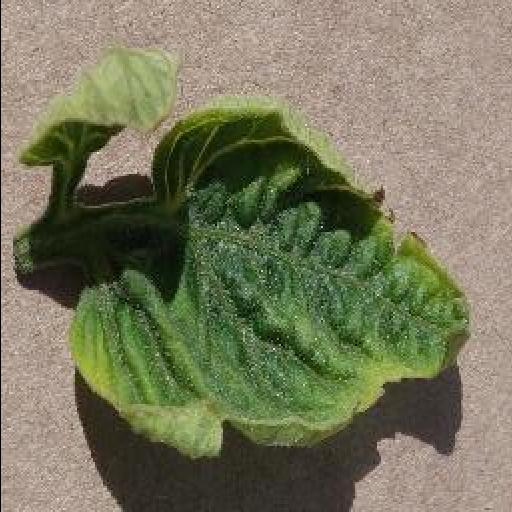disease_tomato: (65, 98, 471, 456)
